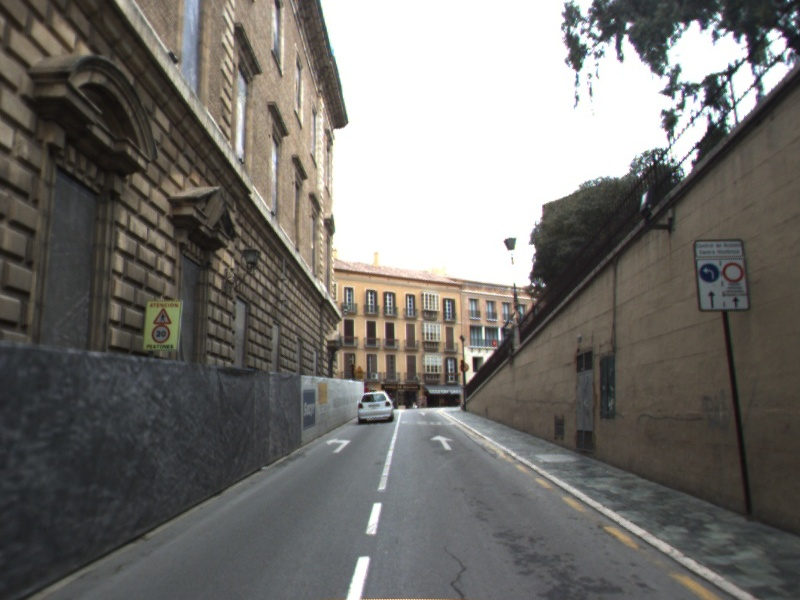LEFT: (324, 436, 353, 455)
STRAIGHT: (428, 433, 456, 452)
